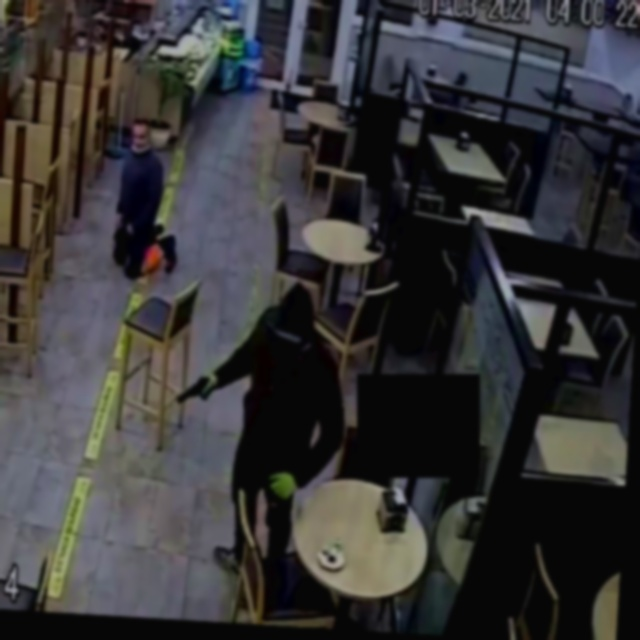gun: (161, 360, 228, 418)
